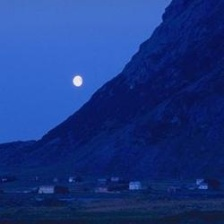neutral: (6, 8, 222, 208)
